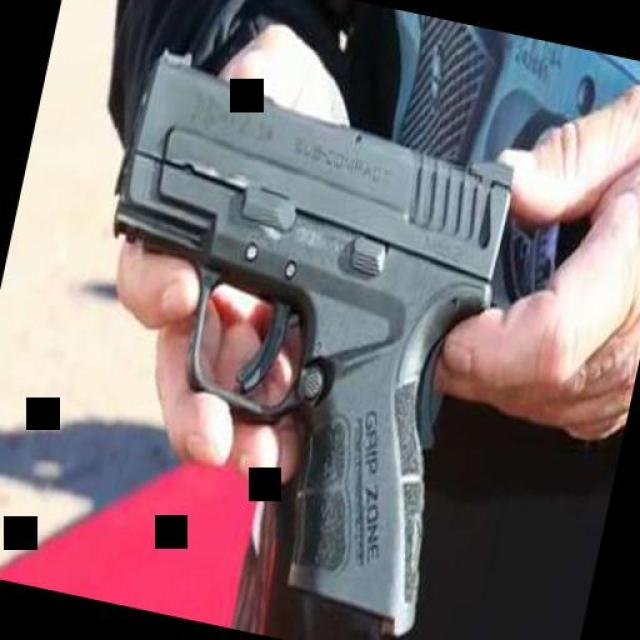gun: (36, 41, 526, 640)
